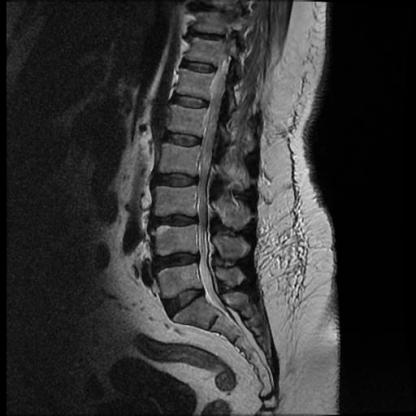Degenerative Disc Diseaserotation: (153, 250, 200, 274)
Disc Bulgerotation: (154, 250, 201, 274), (164, 290, 206, 314), (156, 170, 199, 191), (162, 129, 204, 150), (150, 212, 199, 230)
